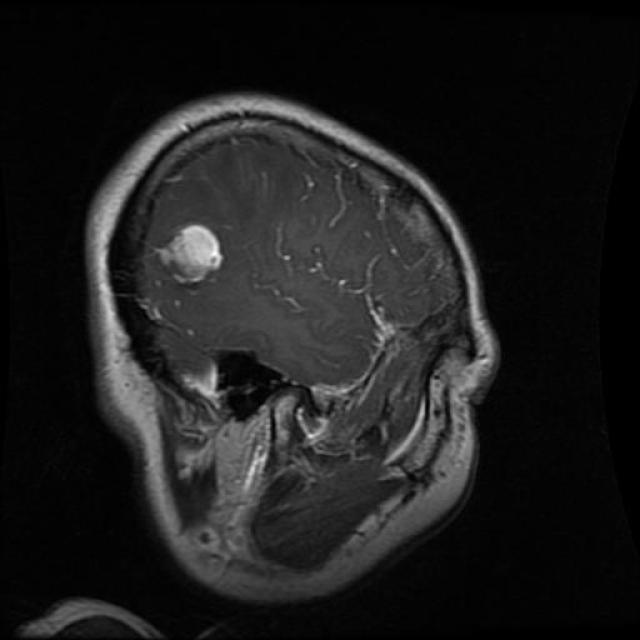glioma: (159, 225, 225, 289)
